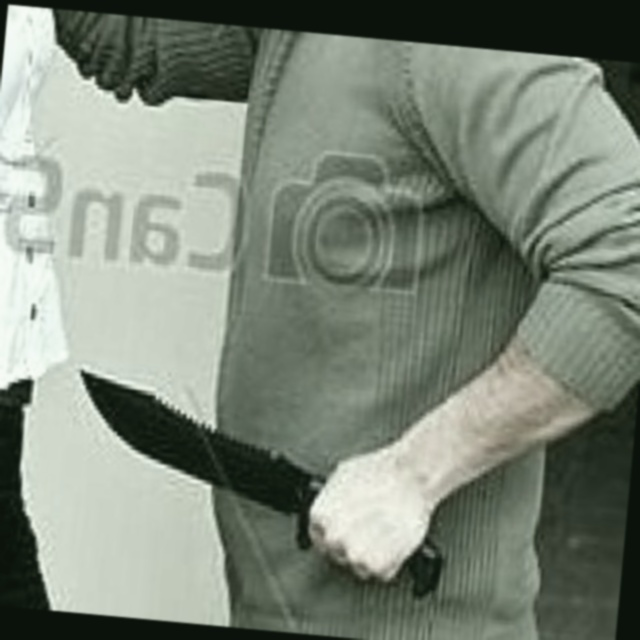Sharp-Object: (62, 368, 460, 603)
